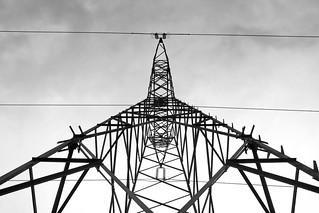power_tower: (1, 31, 319, 213)
